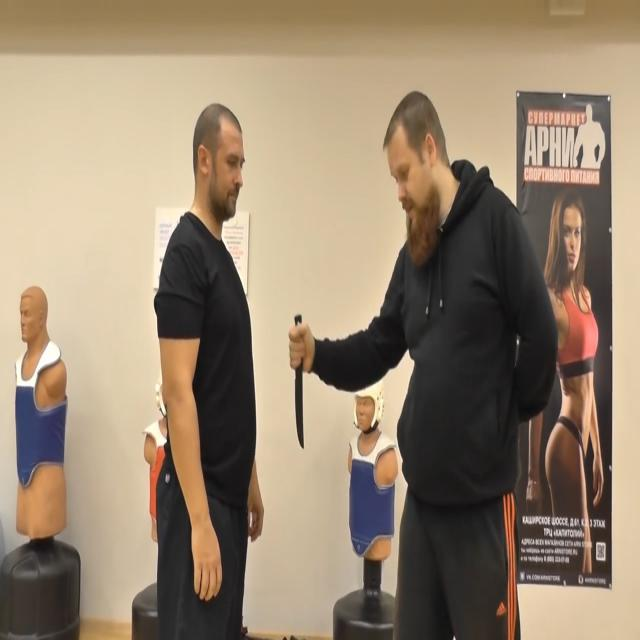knife: (293, 310, 312, 456)
